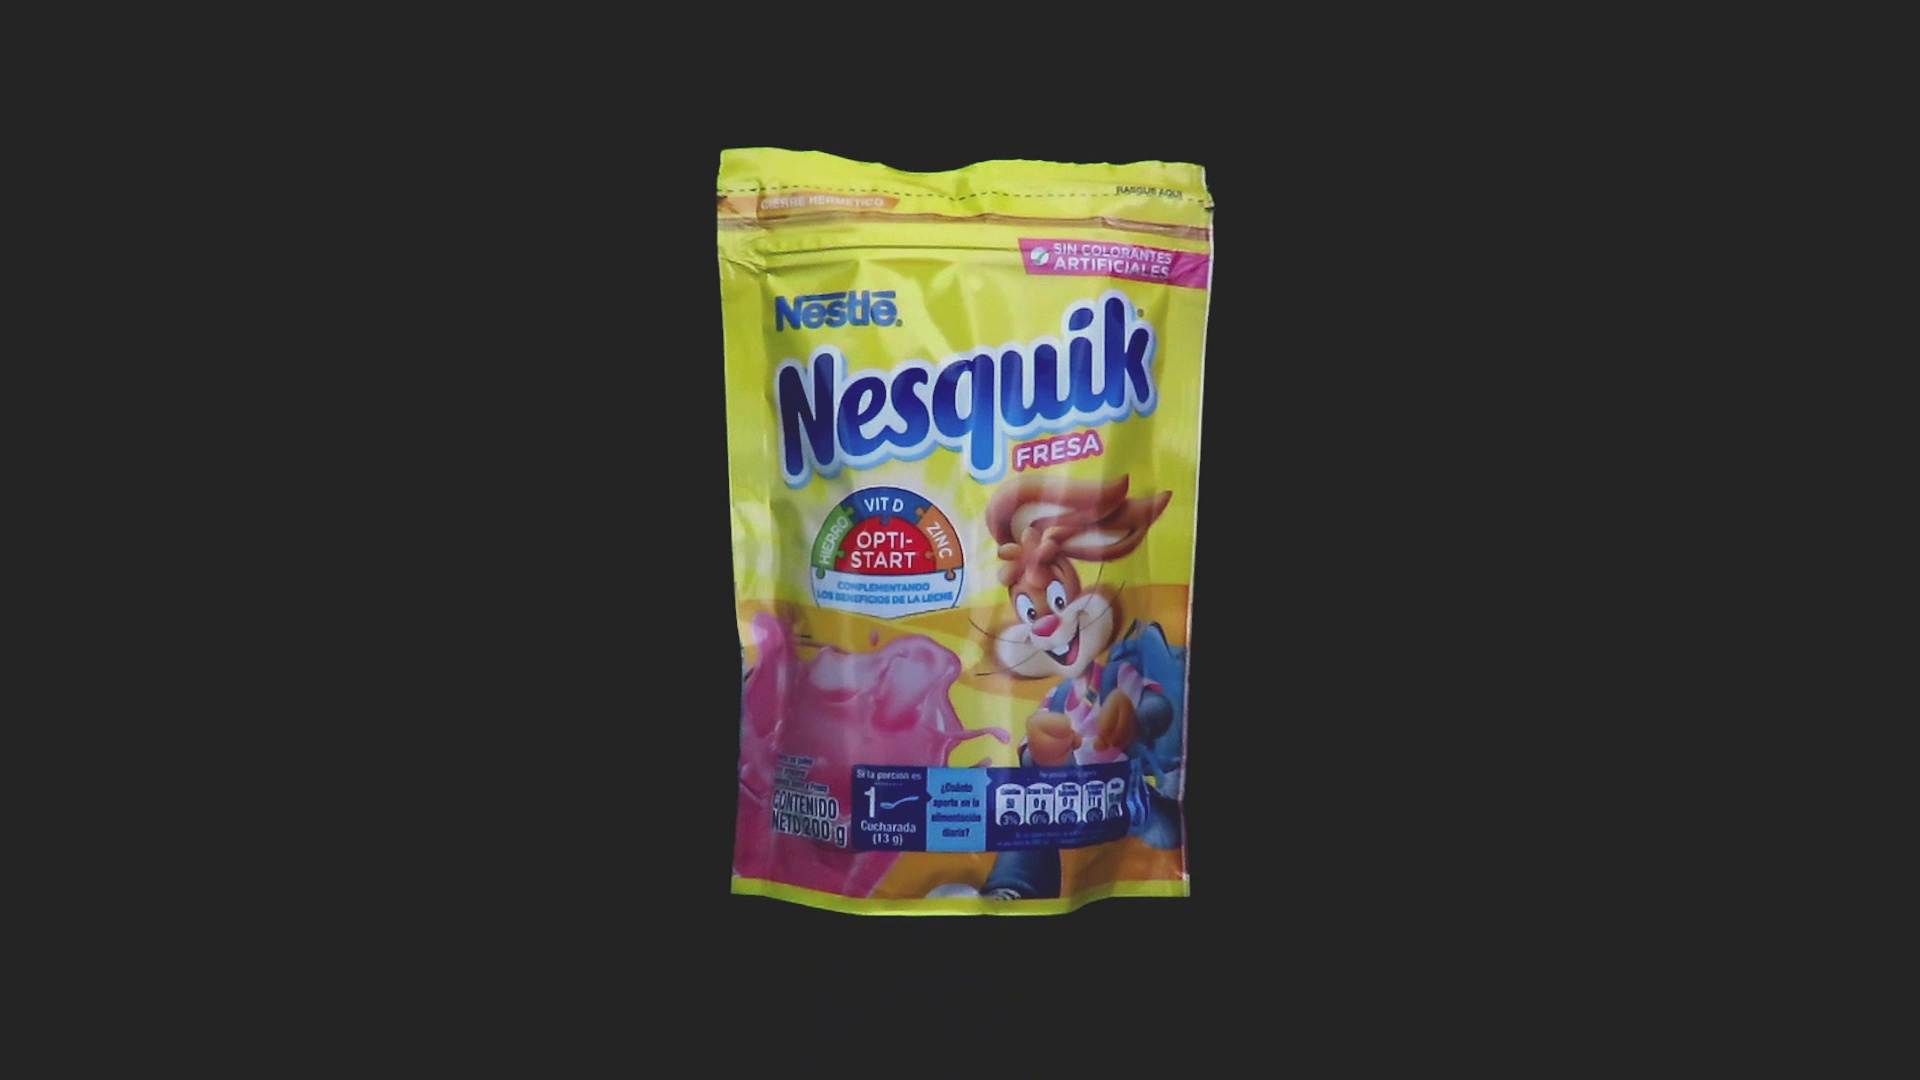COL0170305DYP20000: (711, 142, 1221, 922)
